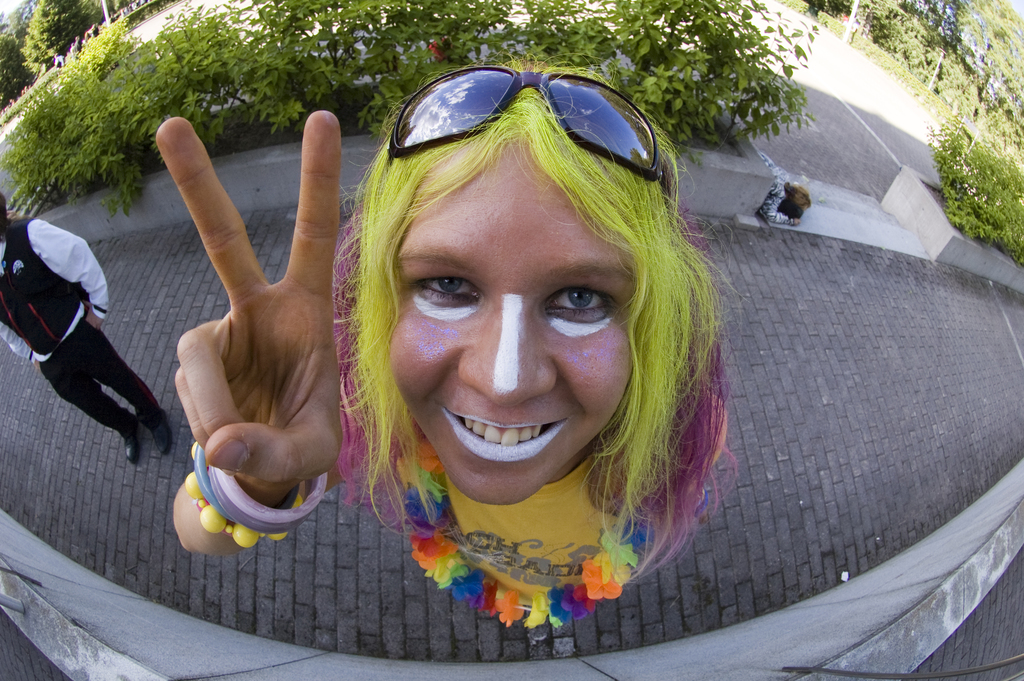Human-face: (385, 140, 640, 505)
